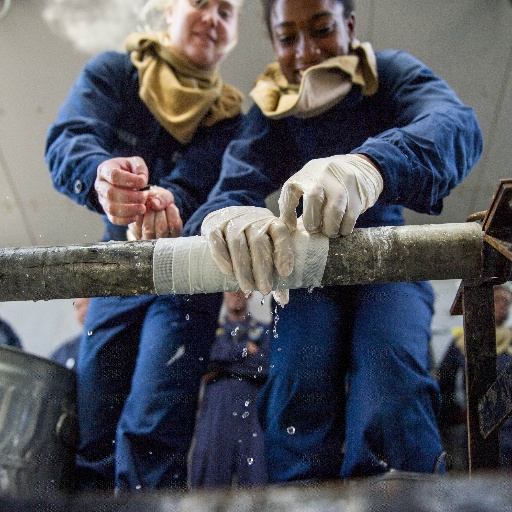hand: (200, 203, 319, 302), (275, 152, 384, 242), (90, 152, 148, 229), (126, 182, 183, 243)
